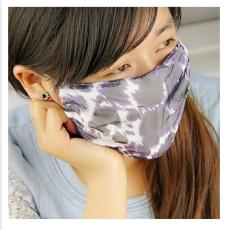OK: (50, 16, 191, 157)
